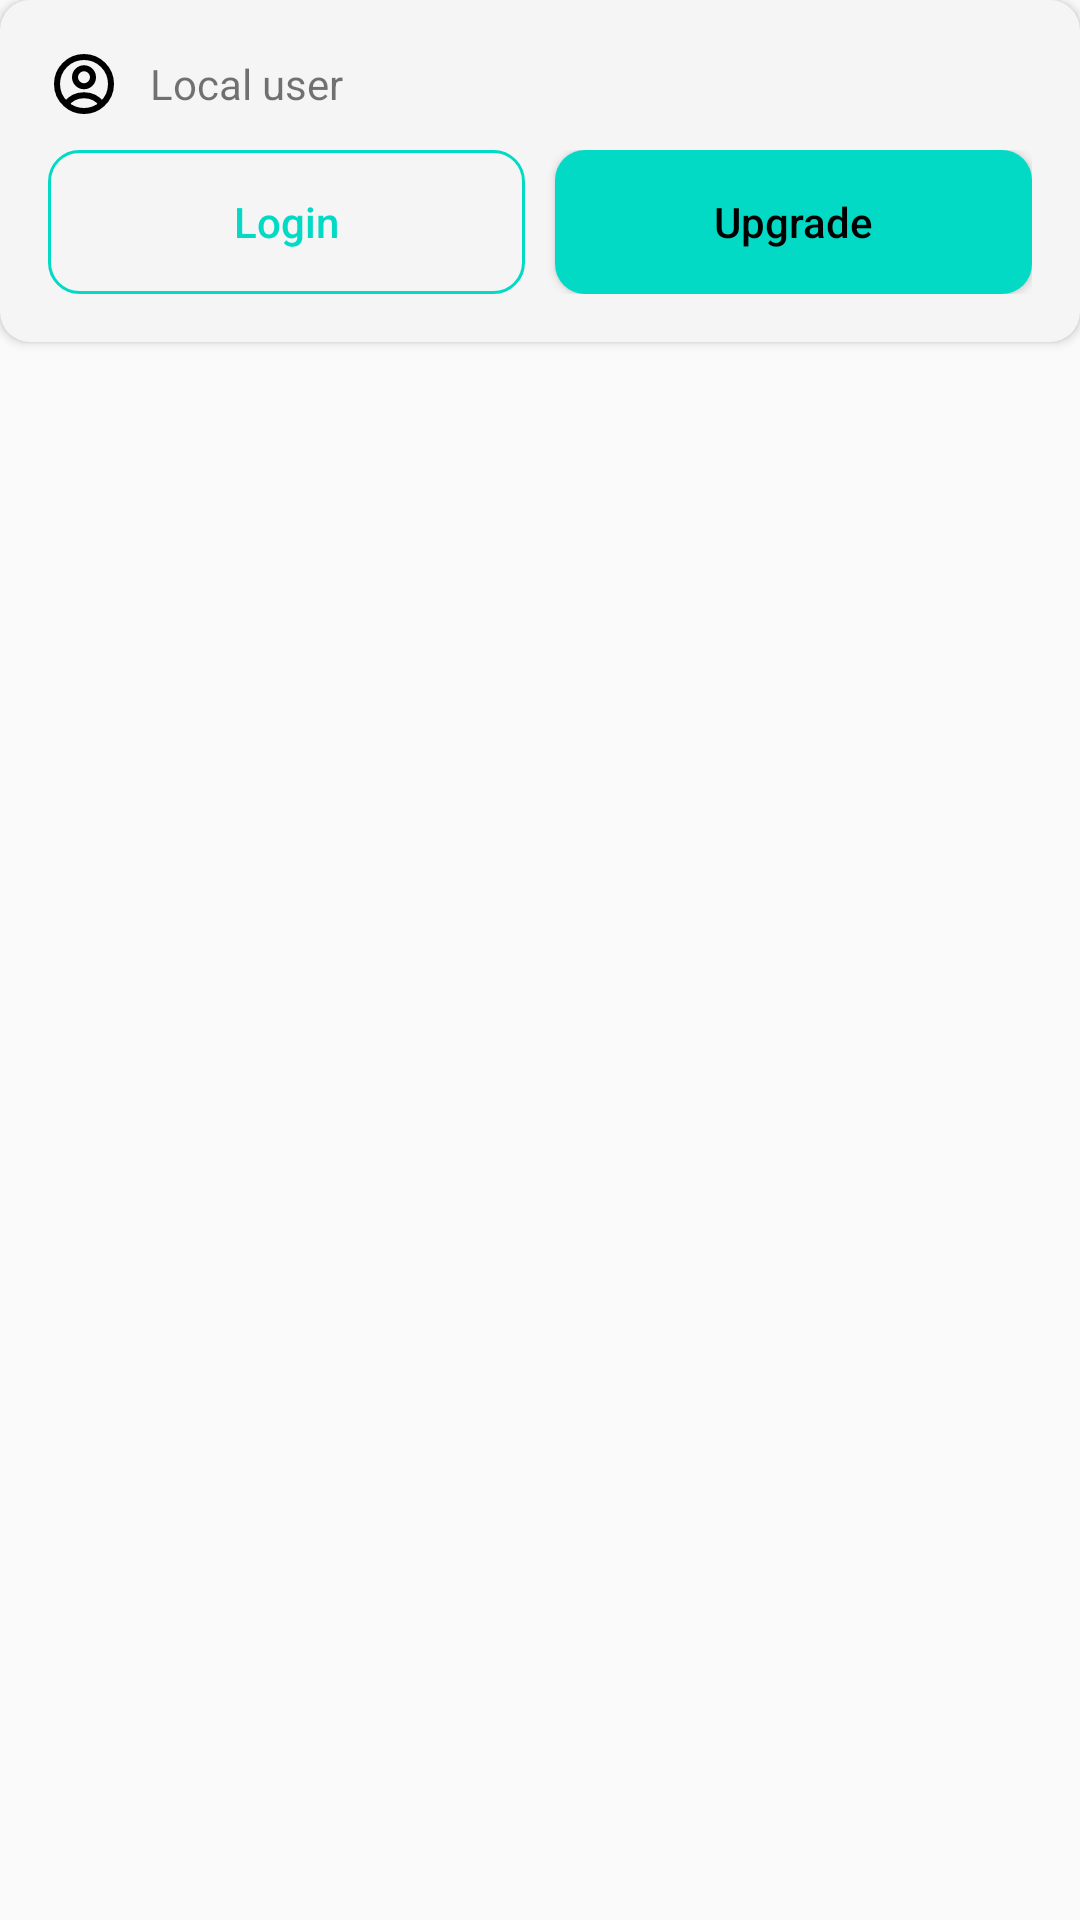

Where icons sit on this 1080w x 1920h app screen, as (x1, y1, x2, y2):
profile: (54, 54, 114, 114)
